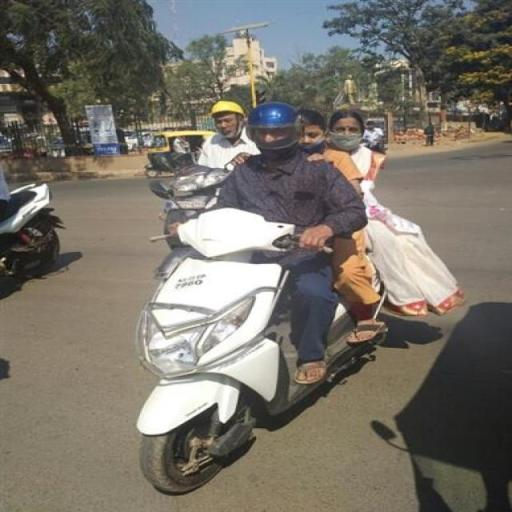tripple riding: (206, 97, 400, 226)
